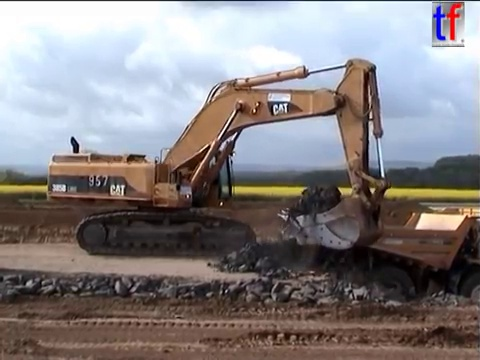excavator: (44, 55, 394, 261)
truck: (297, 204, 480, 319)
